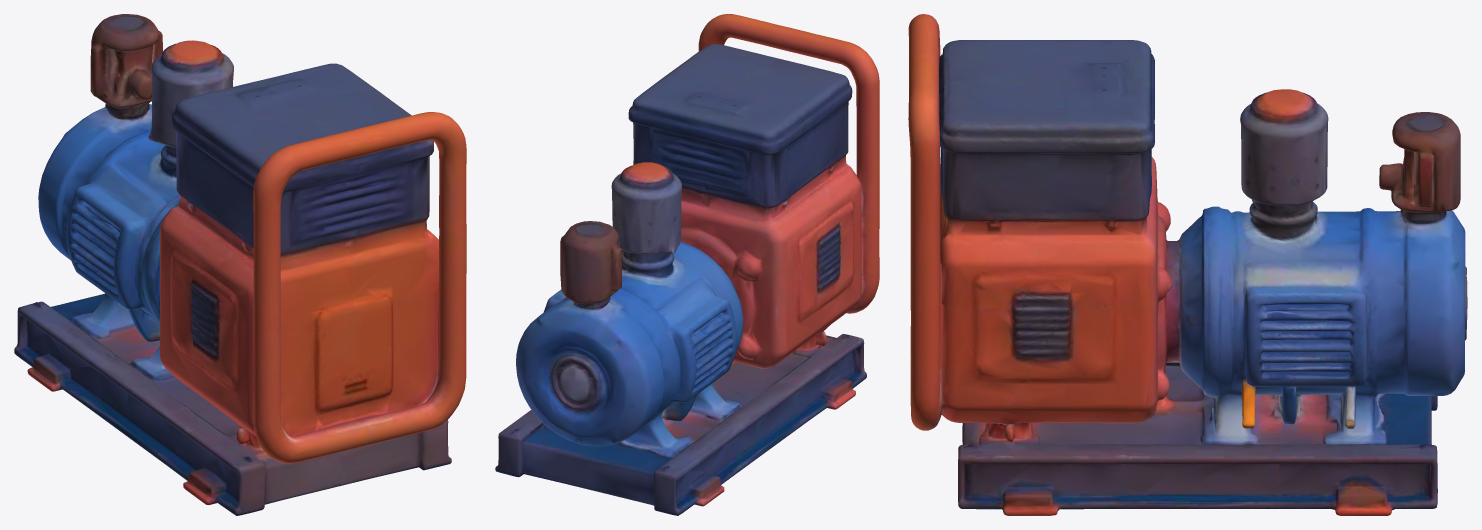
The model's file is generator.glb.
3 renders of one model, left to right at view 1: azimuth 30°, elevation 25°; view 2: azimuth 150°, elevation 25°; view 3: azimuth 270°, elevation 25°, orthographic. The views are drawn at different scales.
Parts seen in each view (by area): view 1: tripo_node_028886f7-f4b0-4b1b-8b00-c2f5a64d0896; view 2: tripo_node_028886f7-f4b0-4b1b-8b00-c2f5a64d0896; view 3: tripo_node_028886f7-f4b0-4b1b-8b00-c2f5a64d0896.
Boxes of the visible parts, left/top/right/bottom form: tripo_node_028886f7-f4b0-4b1b-8b00-c2f5a64d0896: left=14, top=14, right=466, bottom=515; tripo_node_028886f7-f4b0-4b1b-8b00-c2f5a64d0896: left=495, top=14, right=879, bottom=515; tripo_node_028886f7-f4b0-4b1b-8b00-c2f5a64d0896: left=908, top=14, right=1467, bottom=515.
Size of the model in its own units: 0.4859 by 0.8274 by 0.9419.
Materials: 1 (1 with a texture image).
